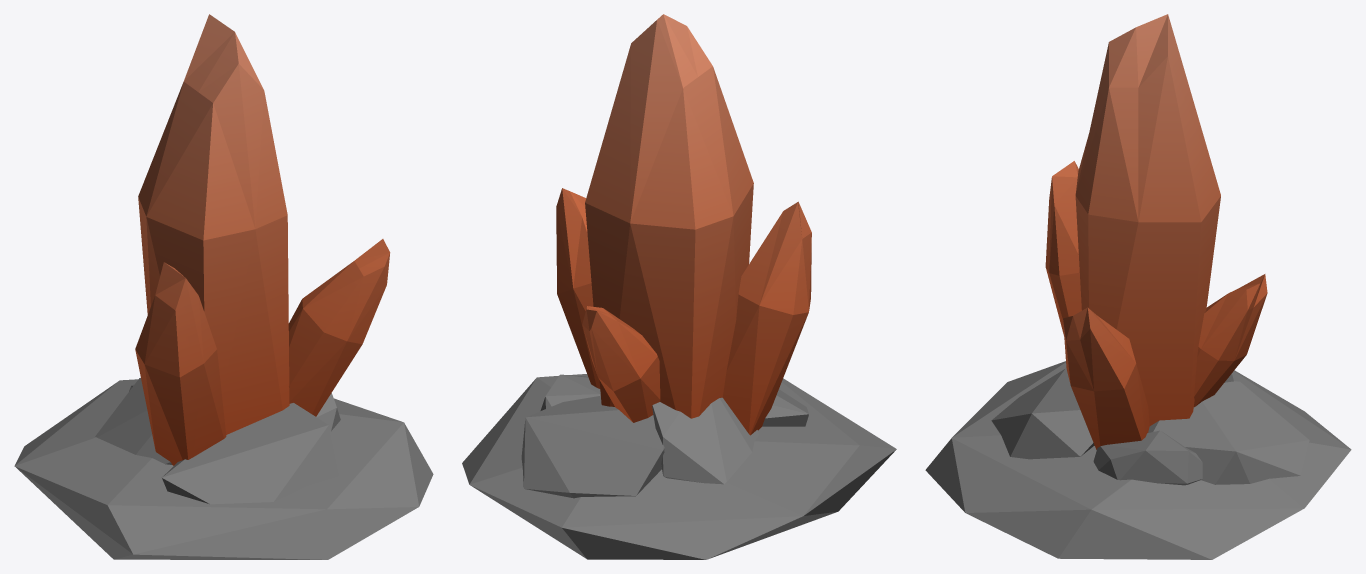
The model's file is Crystal_09.fbx.
3 renders of one model, left to right at view 1: azimuth 30°, elevation 25°; view 2: azimuth 150°, elevation 25°; view 3: azimuth 270°, elevation 25°, orthographic.
Parts seen in each view (by area): view 1: Crystal_09; view 2: Crystal_09; view 3: Crystal_09.
Boxes of the visible parts, x1,y1,x2,y2 form: Crystal_09: (14, 14, 433, 559); Crystal_09: (462, 14, 896, 559); Crystal_09: (925, 14, 1351, 559).
Bounding box in the file's own units: 0.8047 × 1.09 × 0.8736.
